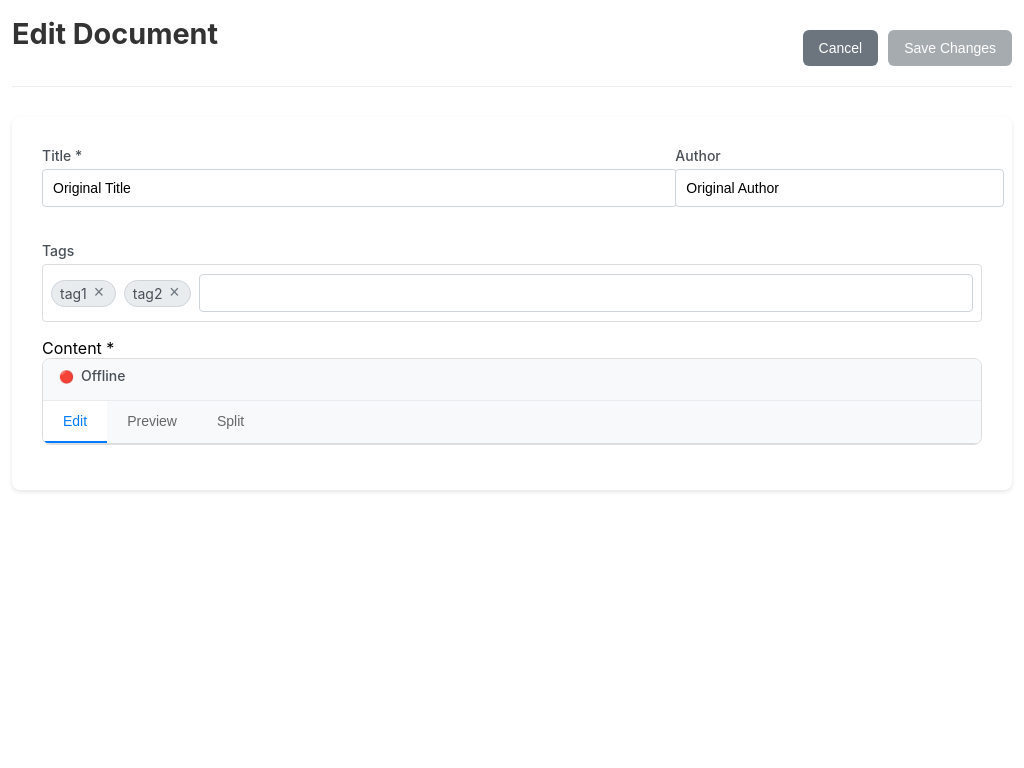
Test case: DocumentEdit › form submission › shows error message on update failure
This screenshot has width=1024, height=768.
Replace the text in the field labelled "Title *" with "Updated Title" at {"x": 360, "y": 188}, box [42,169,677,207]
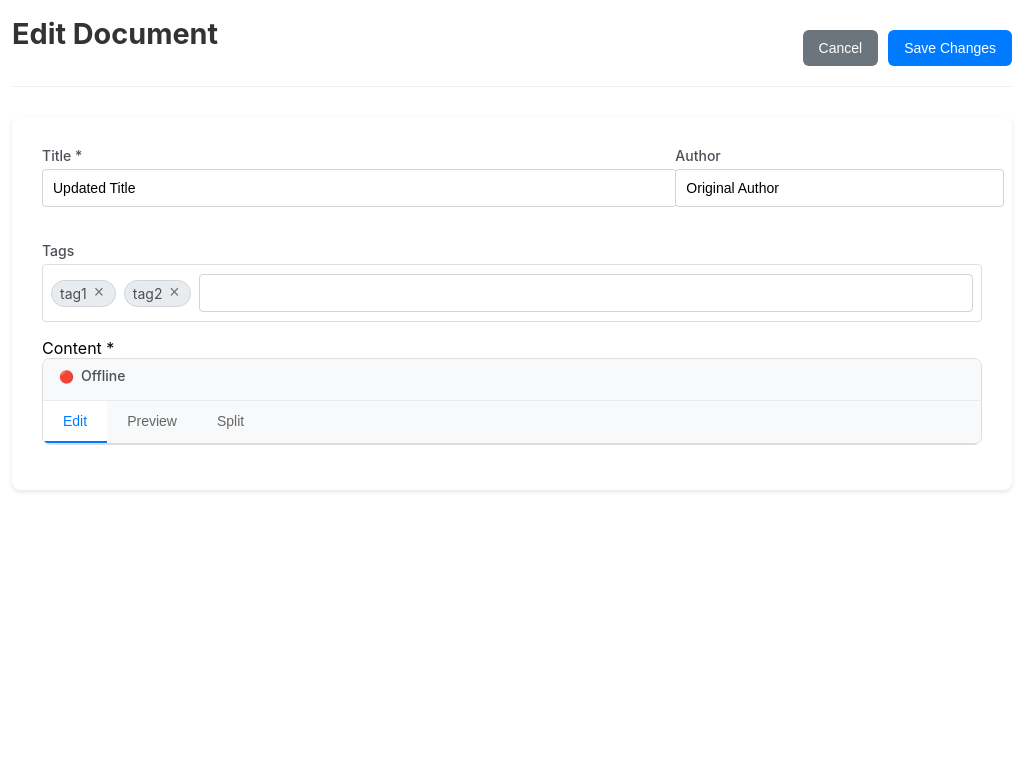
Click the button "Save Changes" at {"x": 950, "y": 48}, box [888,30,1012,66]
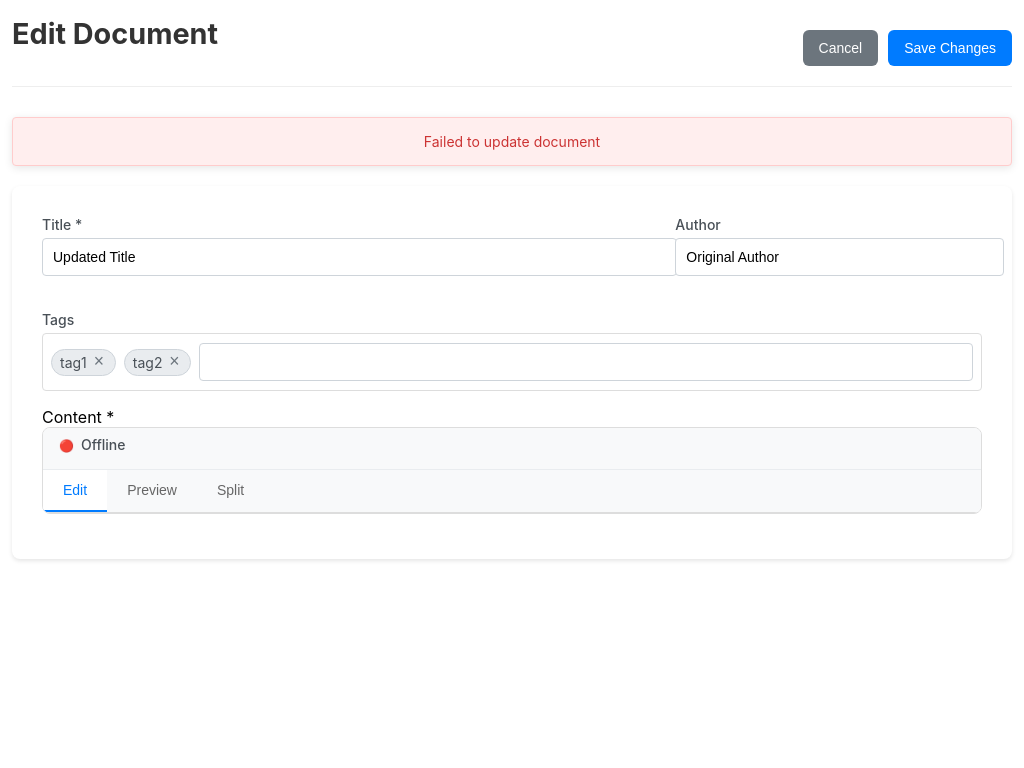
Expected: the text "Failed to update document" is shown, [12,117,1012,166]
